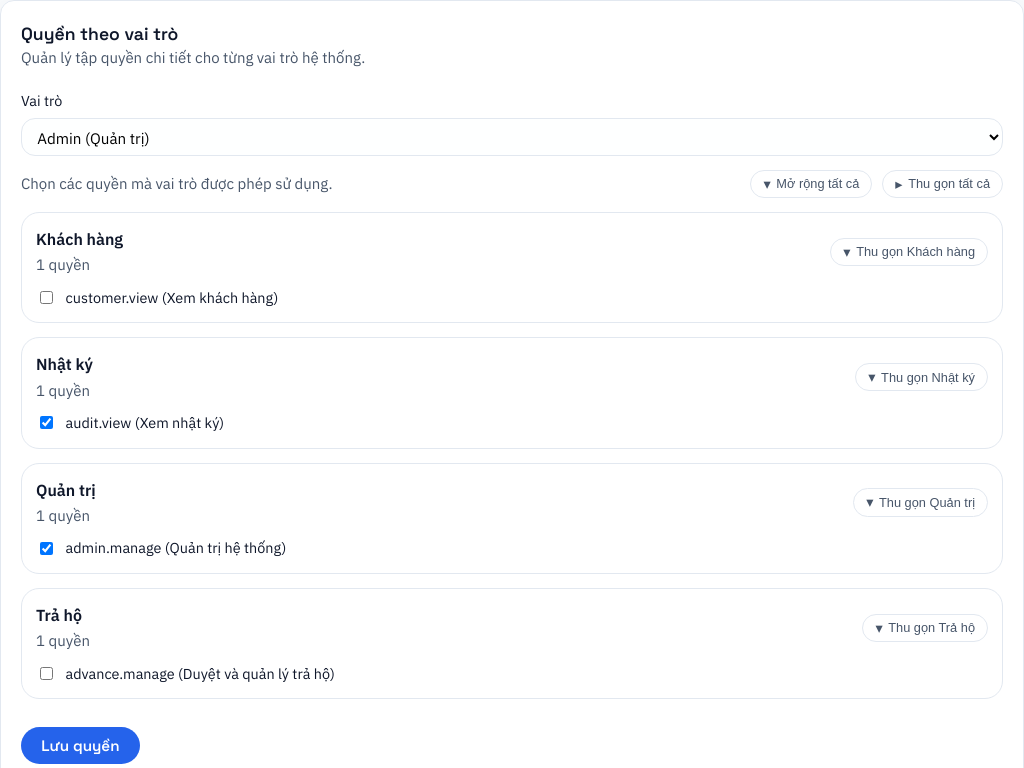
Test: RolePermissionsManager › groups permissions and allows collapsing each group
The width and height of the screenshot is (1024, 768).
Expected: the text "admin.manage (Quản trị hệ thống)" is shown, [66,537,286,559]
Expected: the text "advance.manage (Duyệt và quản lý trả hộ)" is shown, [66,663,335,684]
Click the button "▾ Thu gọn Khách hàng" at x=909, y=252, box [830,238,988,266]
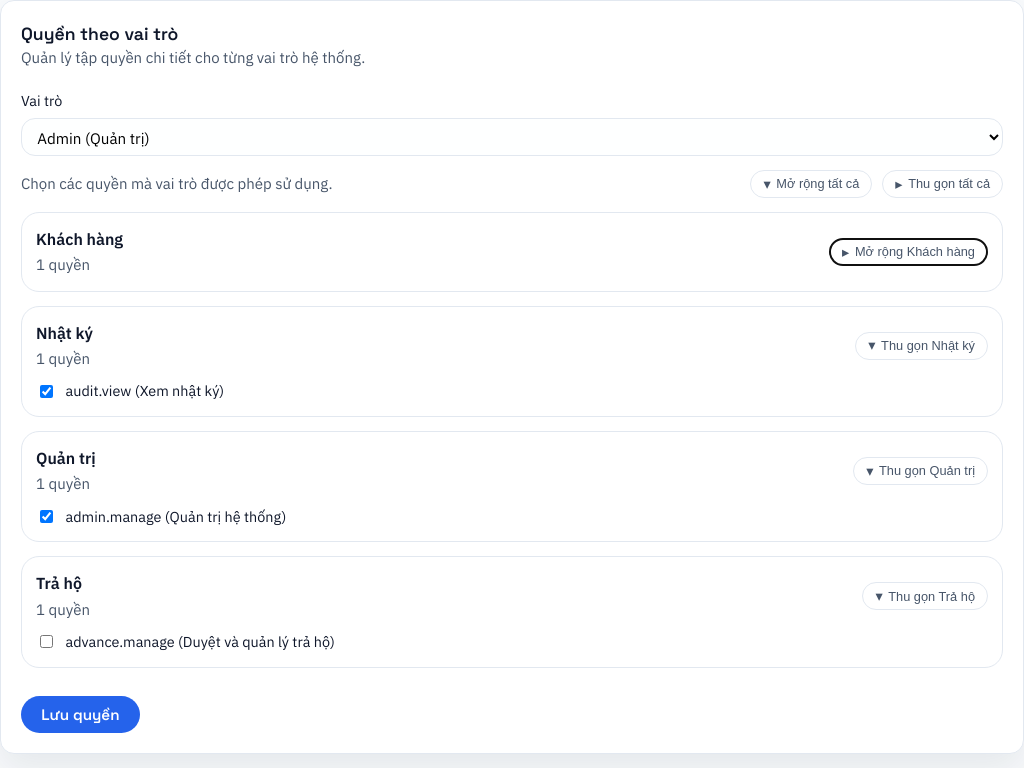
Expected: the text "customer.view (Xem khách hàng)" is gone
Click the button "▸ Mở rộng Khách hàng" at x=909, y=252, box [829,238,988,266]
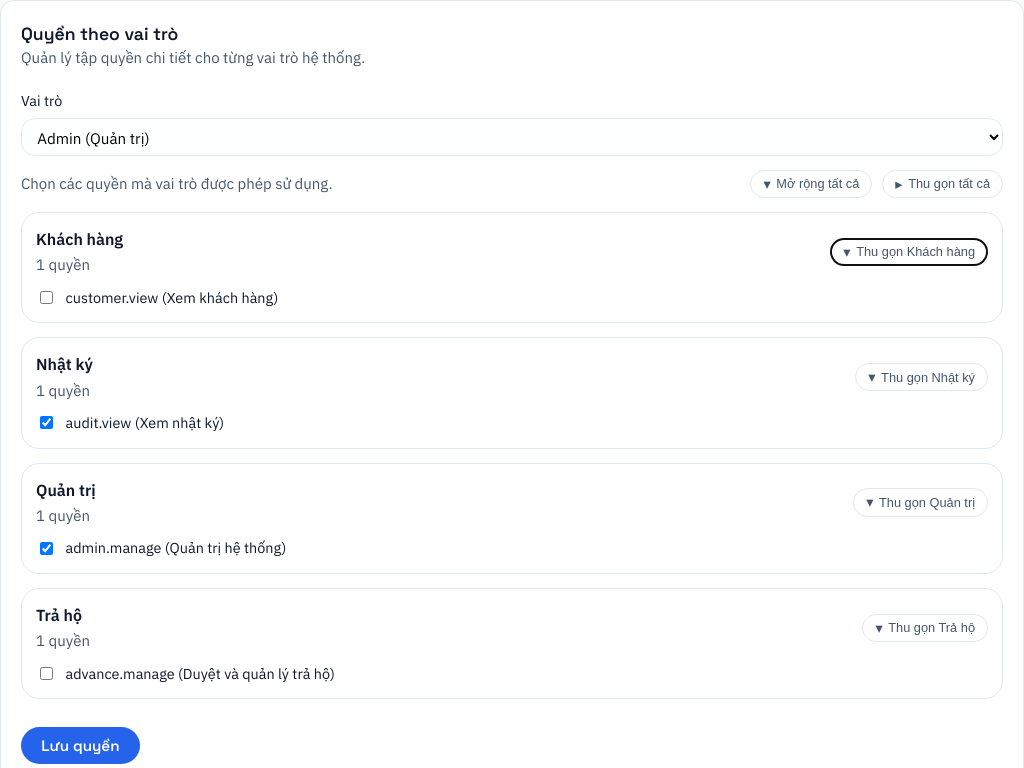
Expected: the text "customer.view (Xem khách hàng)" is shown, [66,287,278,308]
